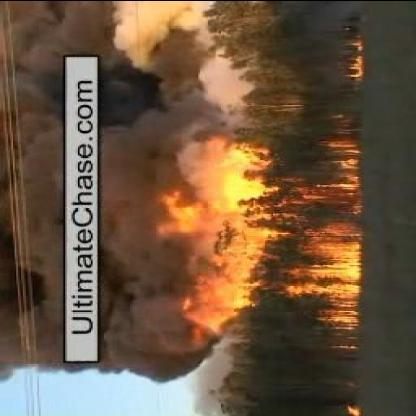-: (102, 36, 174, 378), (3, 45, 58, 369)
foggia-v2-map80-epoch100 - v1 4323: (321, 248, 361, 294)
